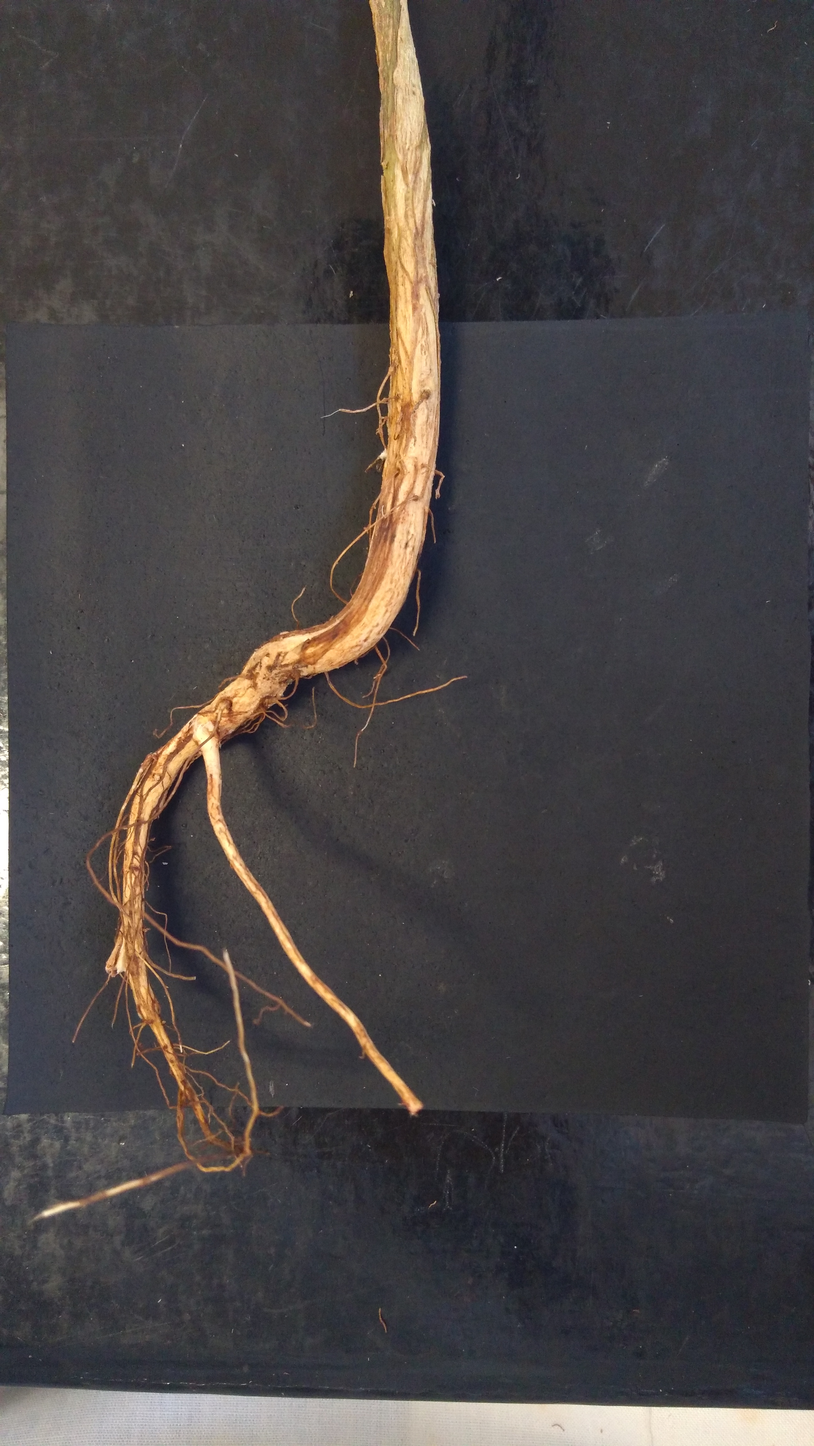nodule: (378, 448, 388, 463), (160, 1020, 166, 1026)
